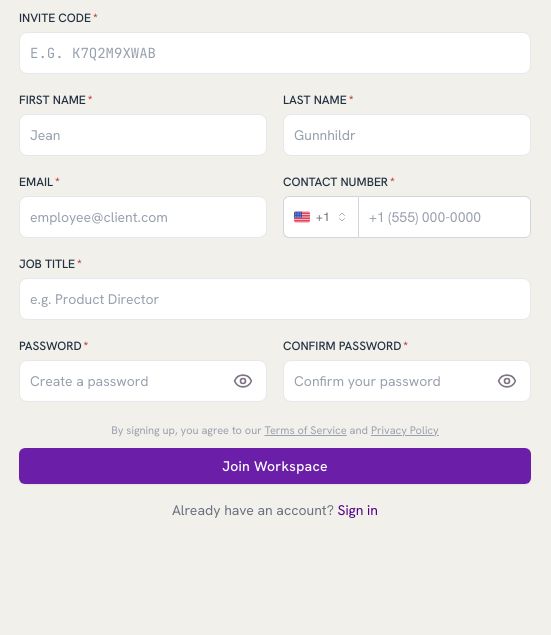
Test: StaffSignupForm interactions › submitting an empty form surfaces field warnings
Click the button "Join Workspace".
click(275, 466)  # box [19,448,531,484]
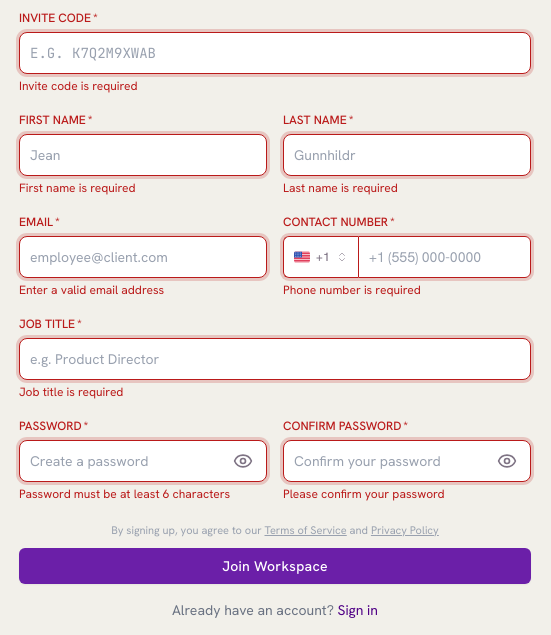
Expected: the text "First name is required" is shown, [19,180,136,196]
Expected: the text "Last name is required" is shown, [283,180,398,196]
Expected: the text "Invite code is required" is shown, [19,78,138,94]
